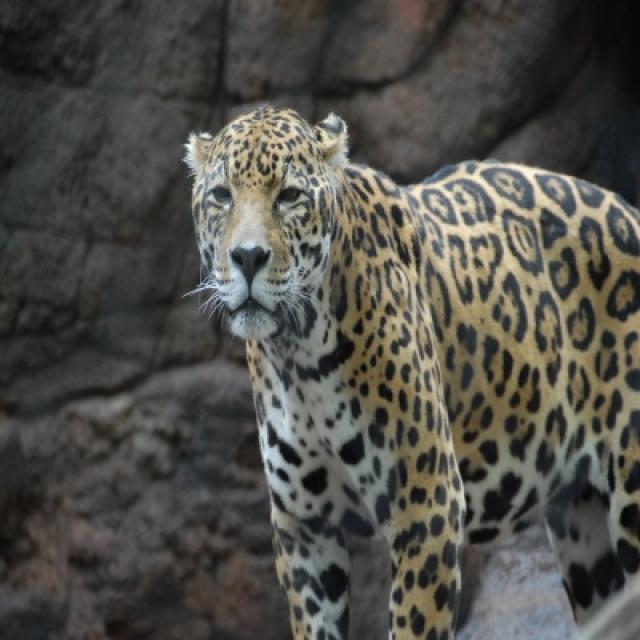Jaguar: (182, 107, 638, 638)
